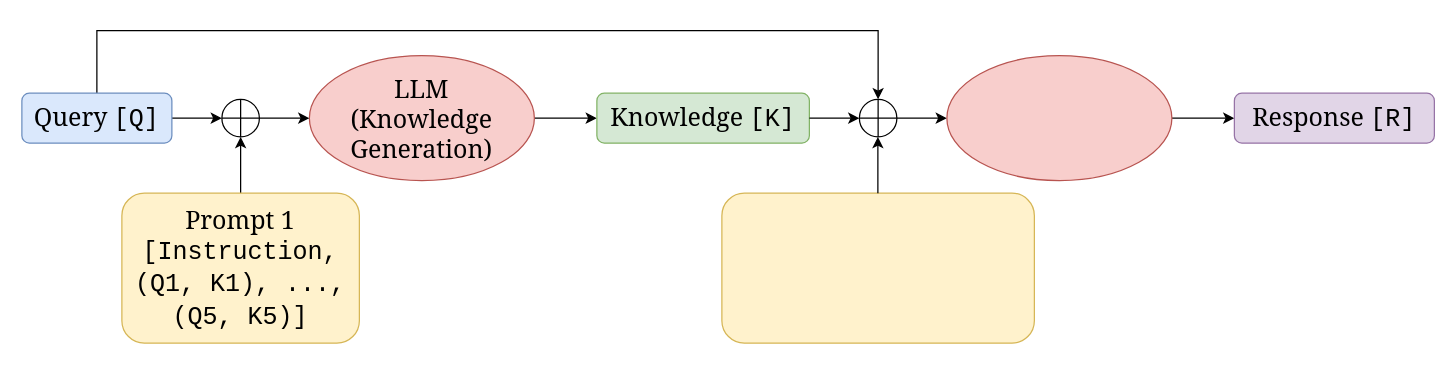
The diagram is 1456 pixels wide and 365 high, and some of its shapes have lost their labels. Each missing label, with the centre of its shape:
LLM (Response Generation): the point at 1059,117
Prompt 2 [Instruction, (K1, Q1, R1), ..., (K5, Q5, R5)]: the point at 877,267
